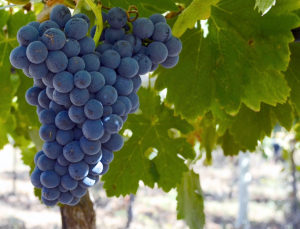Black grapes: (24, 9, 134, 203)
